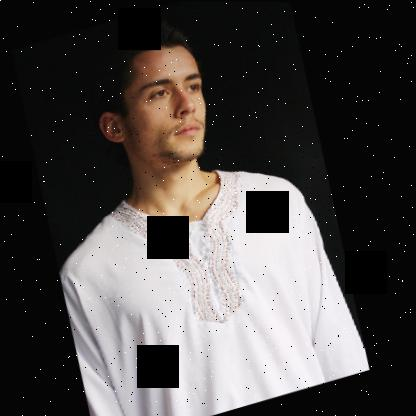Male: (82, 36, 226, 180)
